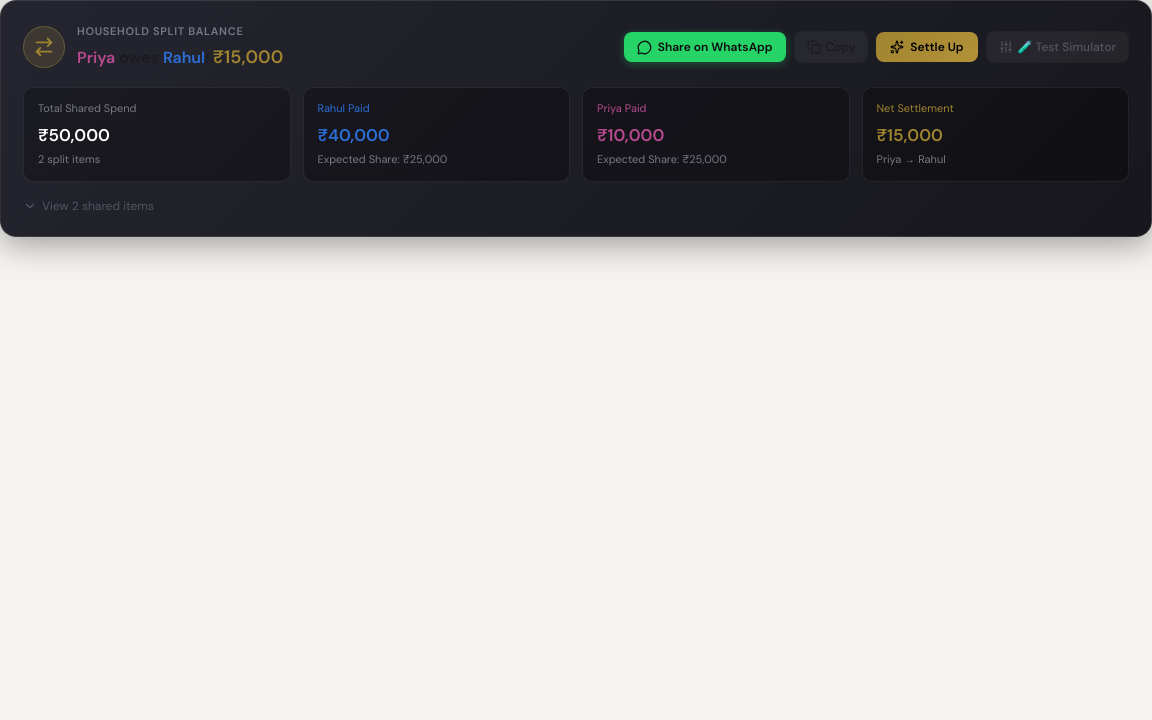
Scenario: SettlementCard Component › opens the Settle Up modal when clicking Settle Up button
Click the button "Settle Up" at point(927, 47), box [876, 32, 978, 62]
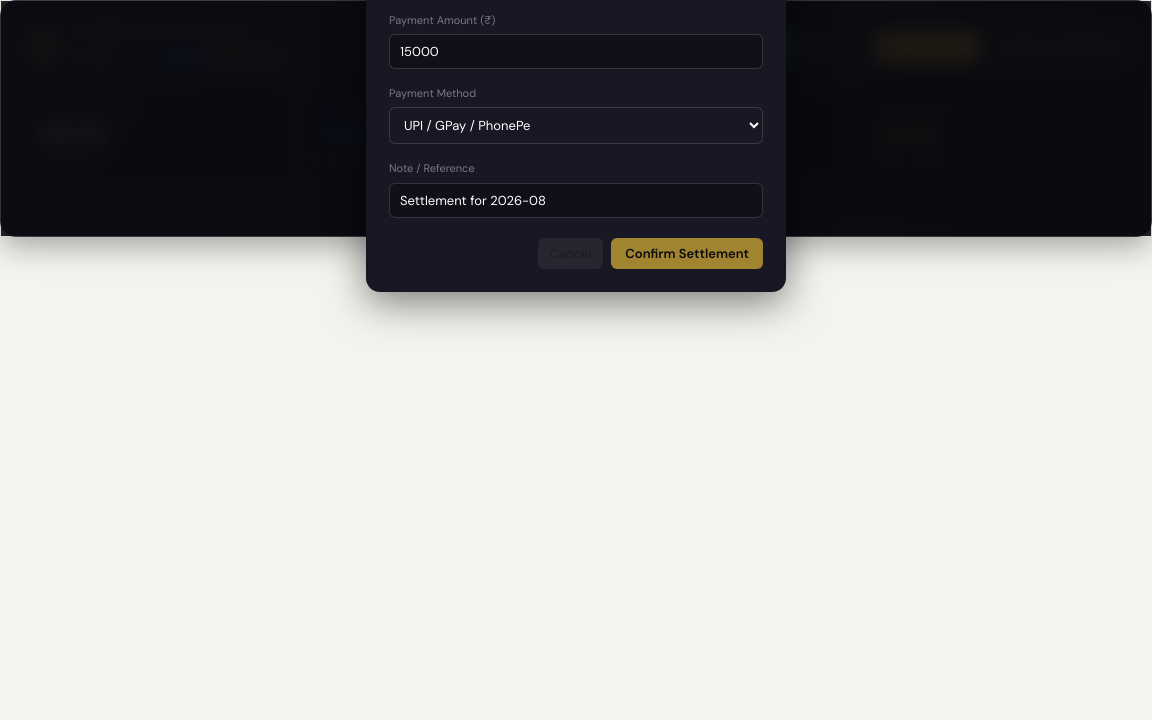
Now the button "Confirm Settlement" is shown, box [611, 238, 763, 269]
